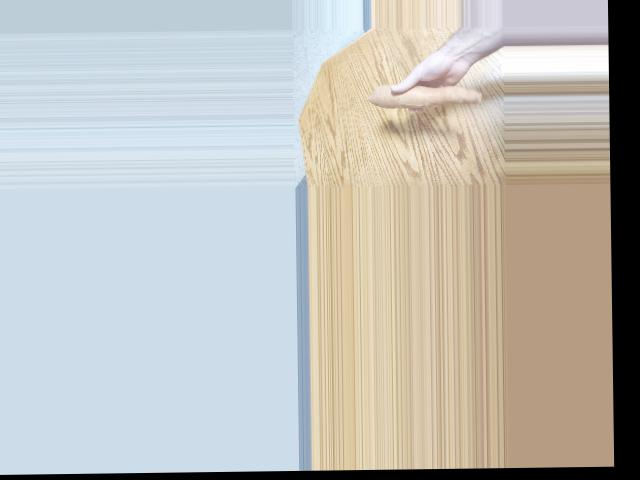sweet_potato: (374, 78, 482, 112)
